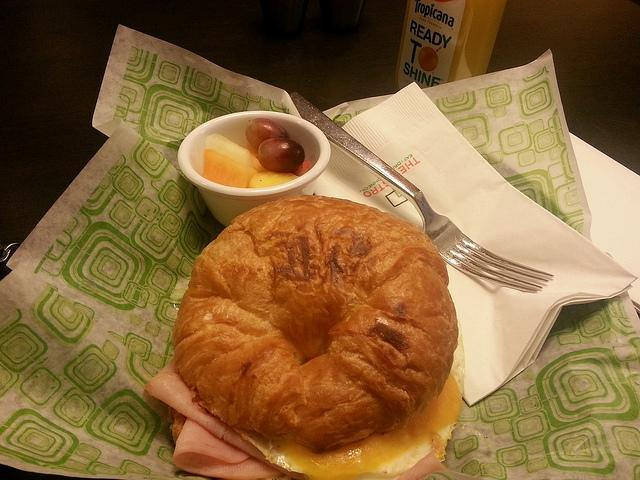grape: (258, 138, 305, 172), (245, 118, 290, 151)
pineapple: (206, 134, 255, 168), (249, 172, 300, 188)
